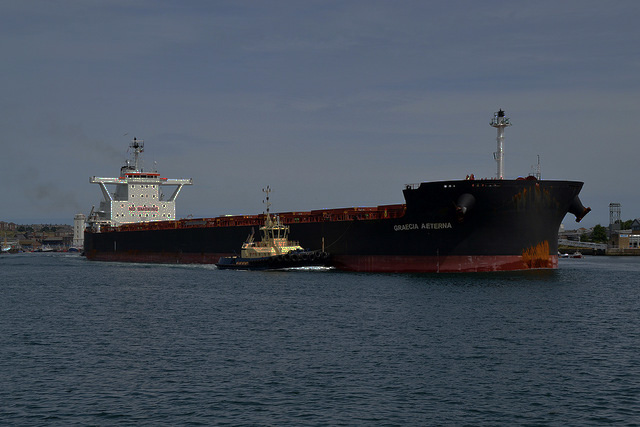bulk carrier: (82, 135, 589, 270)
tug_boat: (213, 190, 325, 276)
